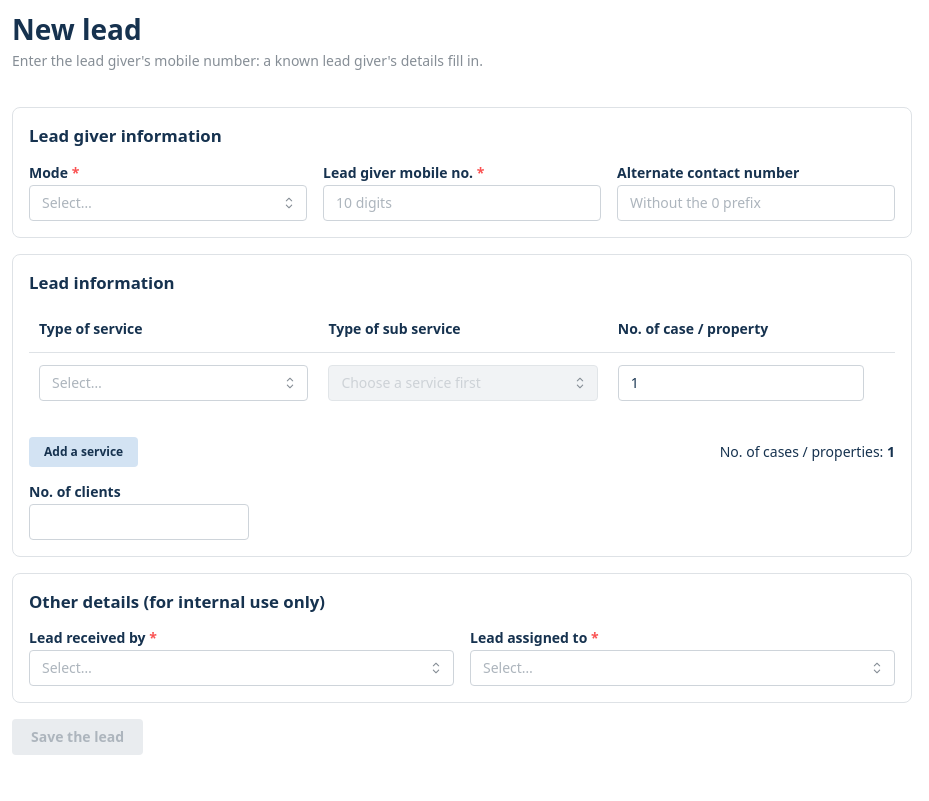
Test case: the new lead form › adds a branch found only in the bank directory as a client, in one step
Type "9826077777" into the field labelled "Lead giver mobile no. *" at (462, 203), box [323,185,601,221]
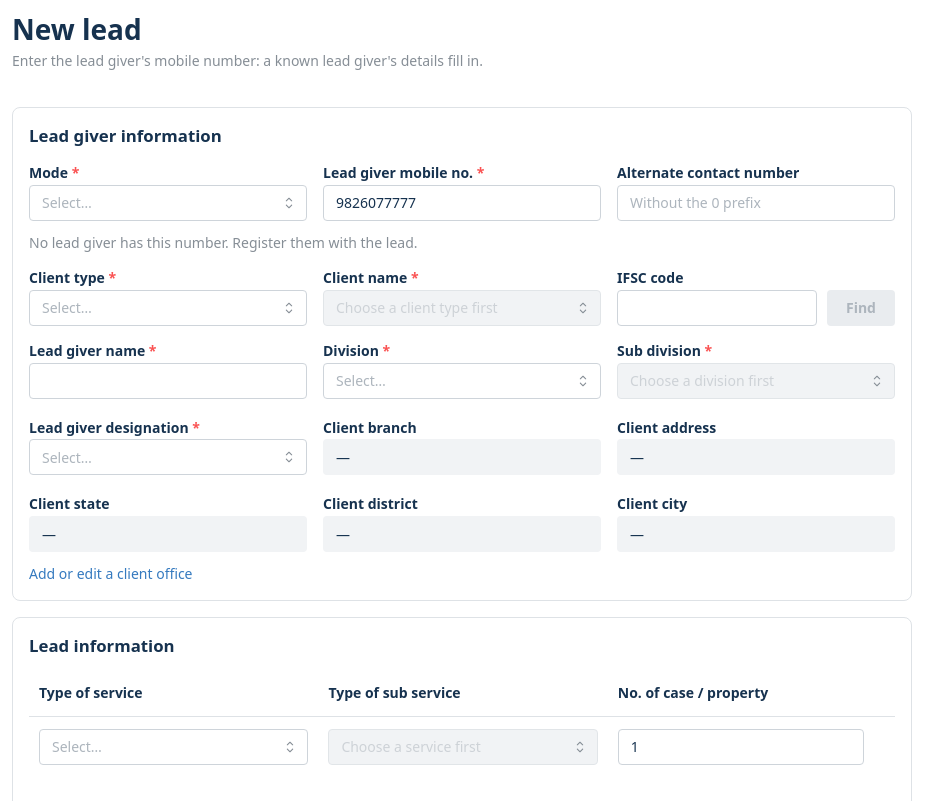
expect the text "No lead giver has this number. Register them with the lead." is shown: met, box [29,233,418,252]
Click the dropdown labelled "Client type" at (168, 308), box [29,290,307,326]
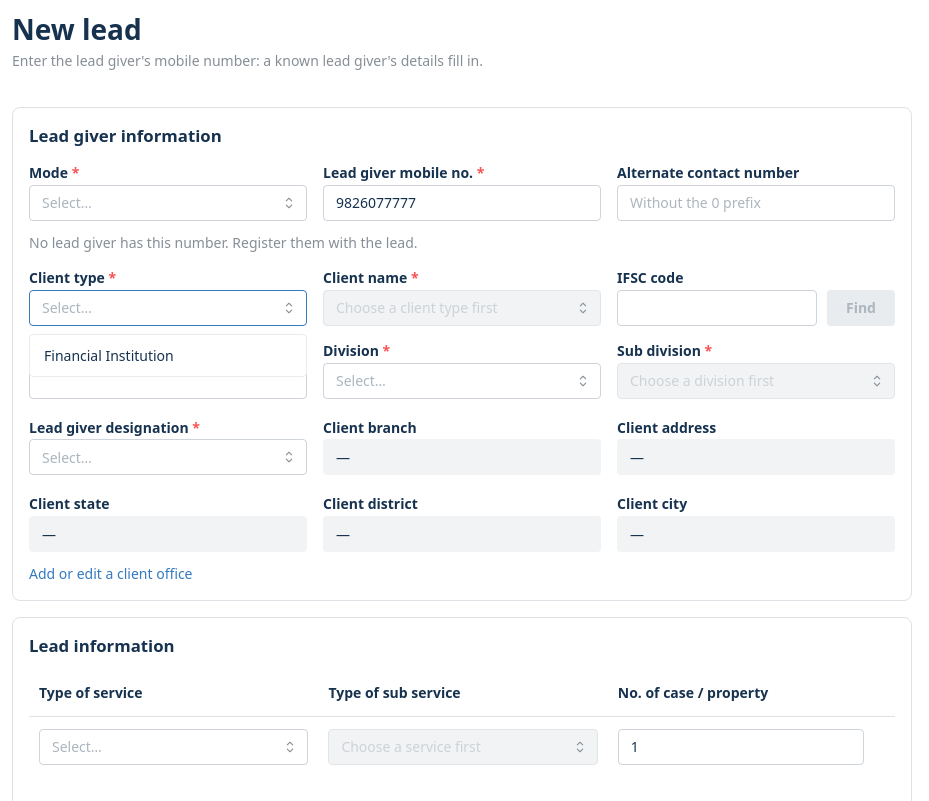
Click the option "Financial Institution" at (109, 355), box [44,346,174,365]
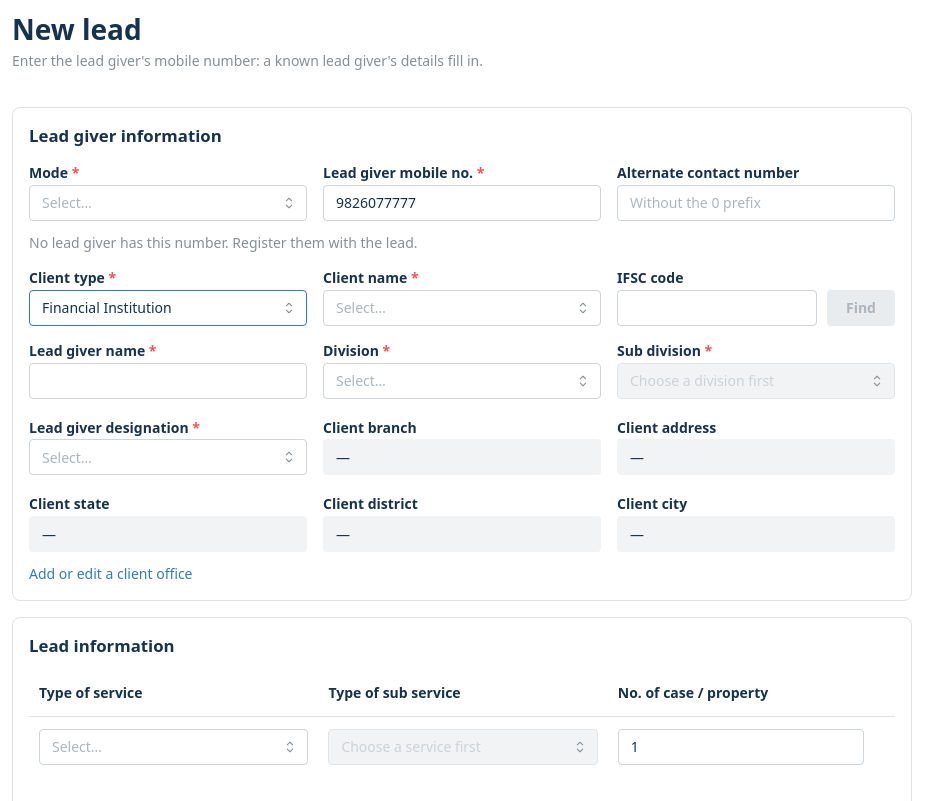
Type "idib000j031" into the field labelled "IFSC code" at (717, 308), box [617,290,817,326]
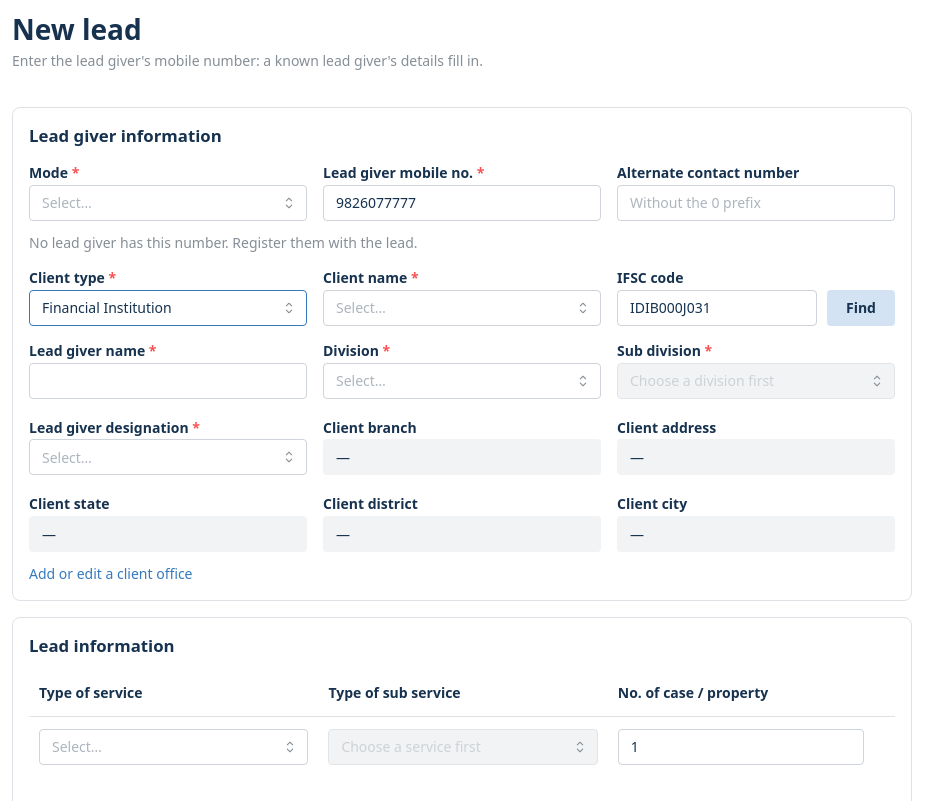
Click the button "Find" at (861, 308), box [827,290,895,326]
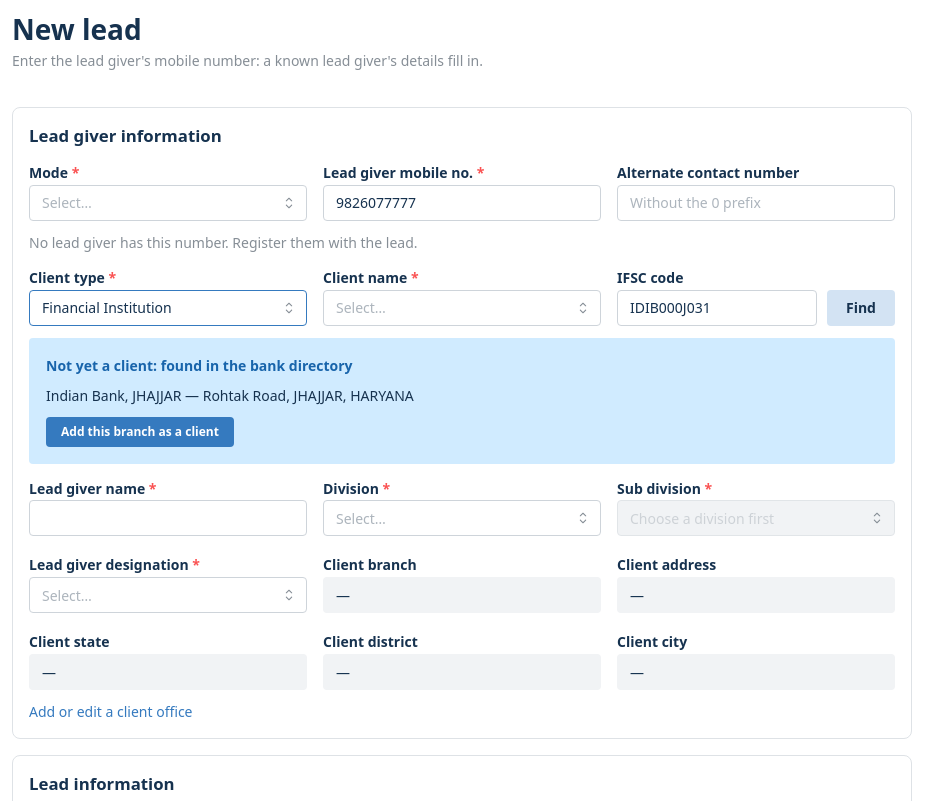
Click the button "Add this branch as a client" at (140, 432), box [46,417,234,447]
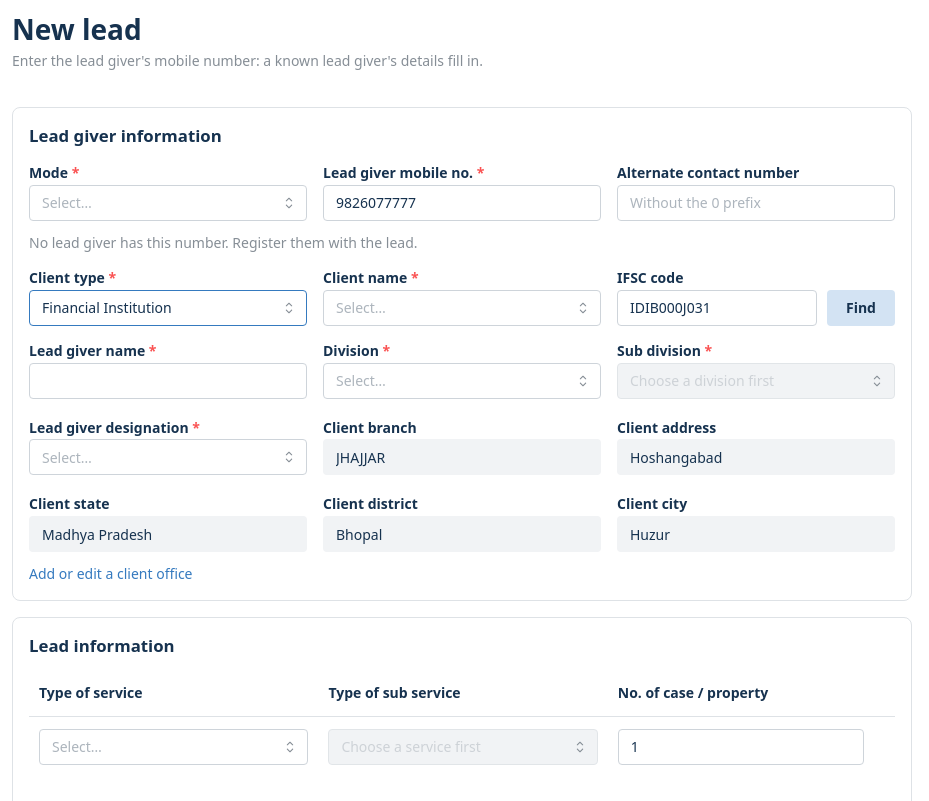
expect the field showing "JHAJJAR" is shown: met, box [323,439,601,475]
